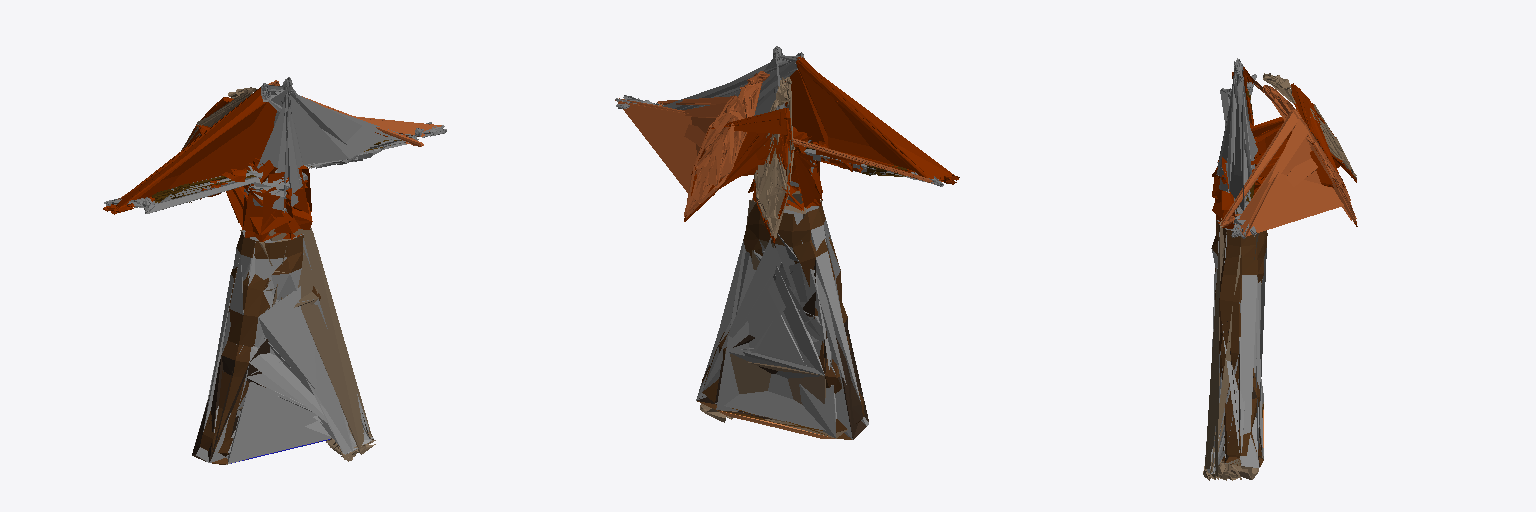
3 renders of one model, left to right at view 1: azimuth 30°, elevation 25°; view 2: azimuth 150°, elevation 25°; view 3: azimuth 270°, elevation 25°, orthographic.
Parts seen in each view (by area): view 1: Object05, GeoSphere05, Cylinder02, Line01, Cylinder03; view 2: Object05, GeoSphere05, Cylinder02, Line01, Cylinder03, Cylinder01, Cylinder04; view 3: Object05, GeoSphere05, Cylinder02.
Part boxes in pixels (x1,y1,x2,y2): Object05: (103, 77, 446, 464); GeoSphere05: (195, 238, 373, 464); Cylinder02: (200, 229, 320, 464); Line01: (192, 339, 330, 461); Cylinder03: (222, 230, 303, 352); Object05: (615, 46, 959, 438); GeoSphere05: (696, 206, 868, 439); Cylinder02: (697, 203, 864, 439); Line01: (715, 260, 868, 438); Cylinder03: (741, 198, 840, 378); Cylinder01: (697, 318, 866, 439); Cylinder04: (703, 206, 840, 390); Object05: (1203, 58, 1357, 480); GeoSphere05: (1205, 230, 1267, 473); Cylinder02: (1212, 220, 1267, 466).
Bounding box in the file's own units: 197 × 213 × 78.07.
Materials: 36 (2 with a texture image).